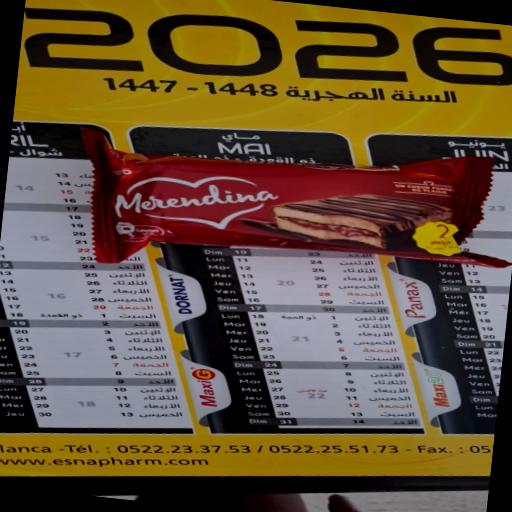merendina: (57, 101, 512, 308)
